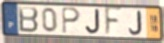0: (41, 7, 60, 34)
B: (17, 6, 40, 34)
F: (104, 6, 124, 39)
J: (85, 9, 101, 35), (128, 10, 143, 36)
P: (61, 7, 82, 36)
